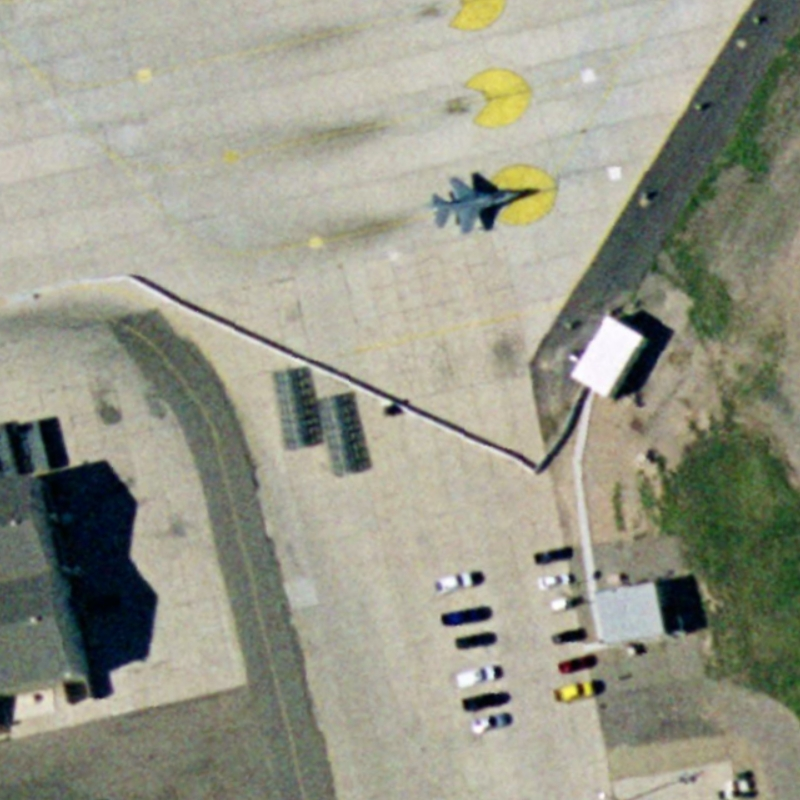A5: (422, 169, 532, 239)
